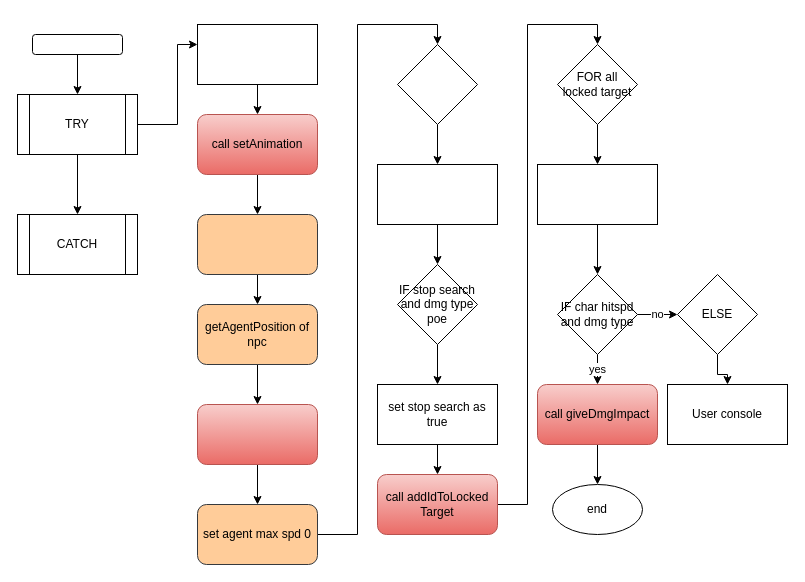
Image size: 805x582. Some labels were removed from this diagram. The centre of each missing label's shape, as x and y in pixels:
"call angleBetween TwoPoints" belongs at [257,434].
"Construct char stop anim req object" belongs at [257,54].
"getAgentPosition of target" belongs at [257,244].
"set agent idle animation" belongs at [437,194].
"set the locked status true" belongs at [597,194].
"start" belongs at [77,44].
"TIMEOUT 0.5 sec" belongs at [437,84].
